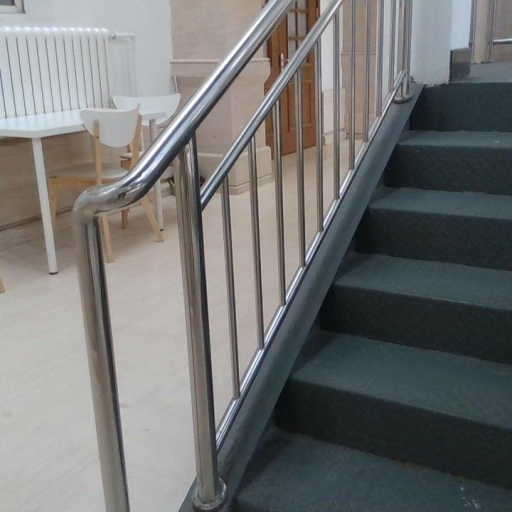Stairs: (234, 83, 512, 512)
